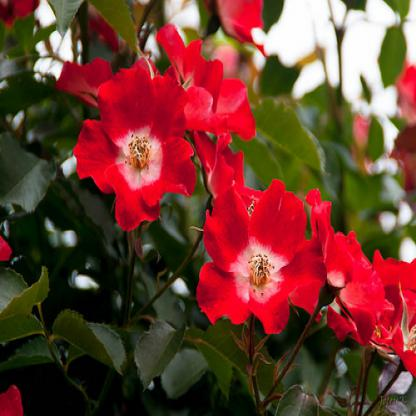ROSE-MAWAR: (69, 32, 416, 384)
